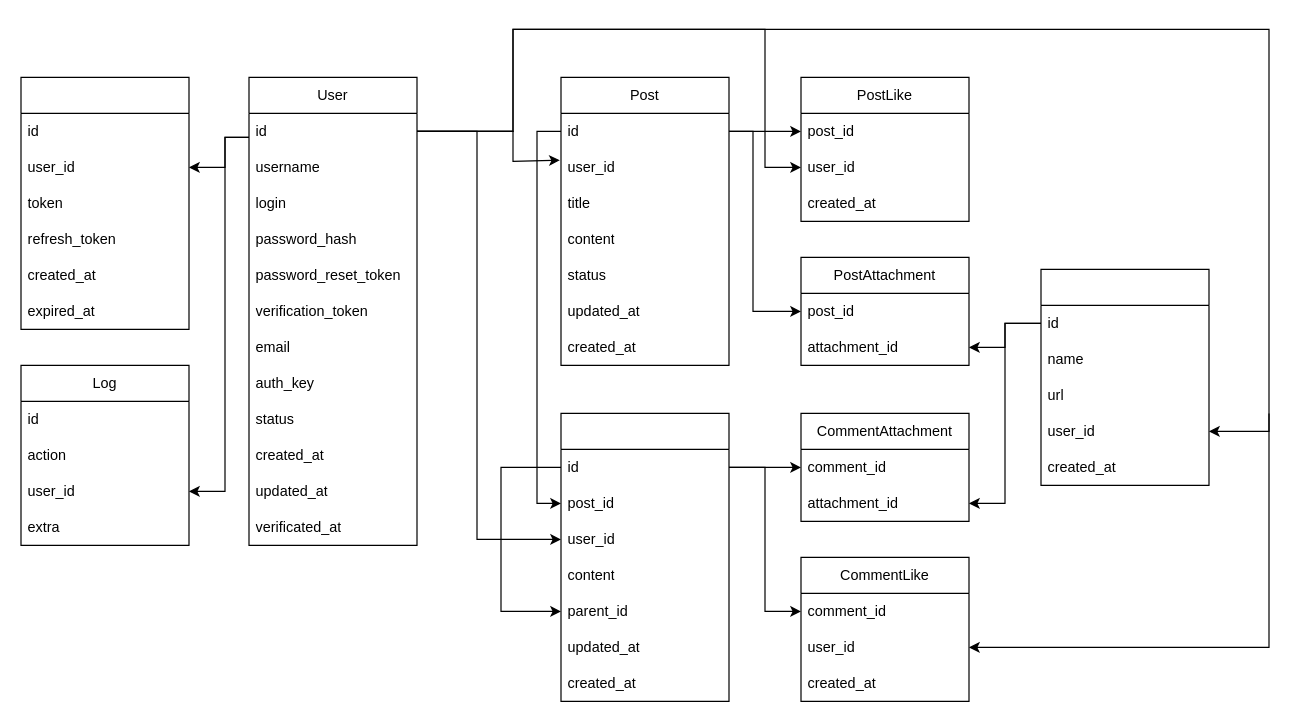
The diagram is 1300 pixels wide and 722 high, and some of its shapes have lost their labels. The box of each missing label's shape, as (x1, y1, x2, y2) in pixels:
Attachment: (1040, 268, 1209, 485)
AuthToken: (20, 76, 189, 329)
Comment: (560, 412, 729, 701)
